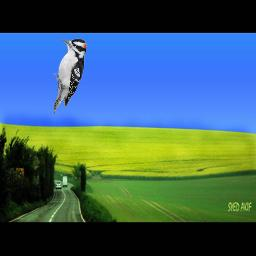Woodpecker: (53, 35, 90, 114)
